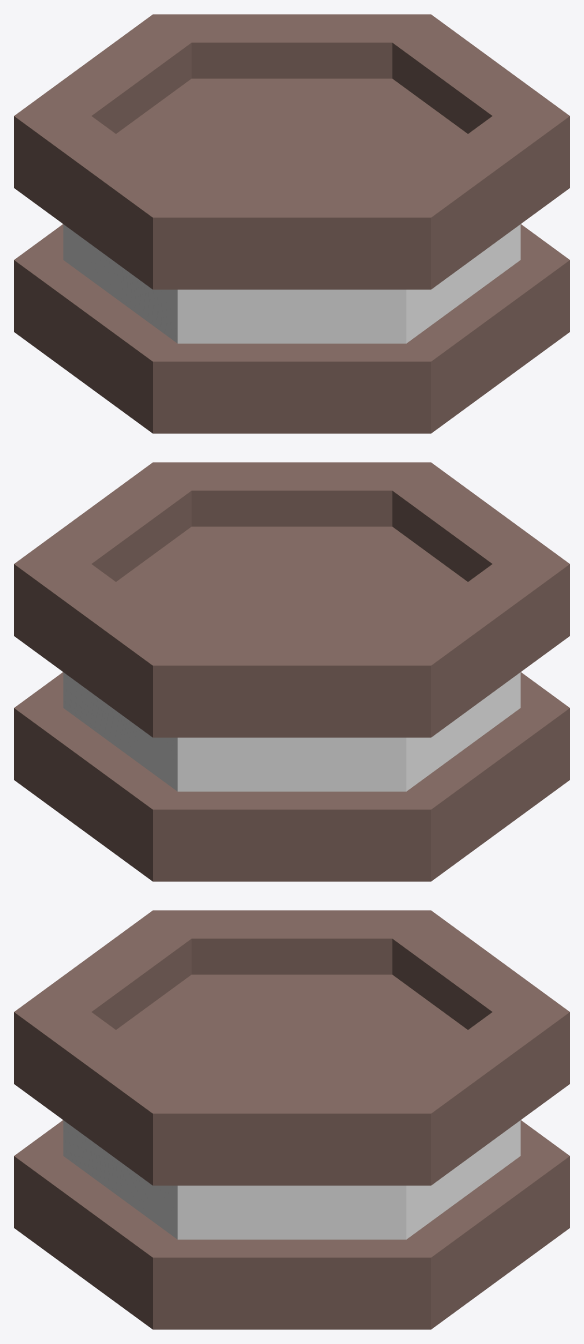
The model's file is cookieChocolate.glb.
The picture shows the model from 3 angles, top to bottom: view 1: azimuth 30°, elevation 25°; view 2: azimuth 150°, elevation 25°; view 3: azimuth 270°, elevation 25°; orthographic projection.
Visible parts, largest first — view 1: cookieChocolate; view 2: cookieChocolate; view 3: cookieChocolate.
Part boxes in pixels (<box>): cookieChocolate: <box>14,14,569,433</box>; cookieChocolate: <box>14,462,569,881</box>; cookieChocolate: <box>14,910,569,1329</box>.
Size of the model in its own units: 0.1212 by 0.06 by 0.14.
